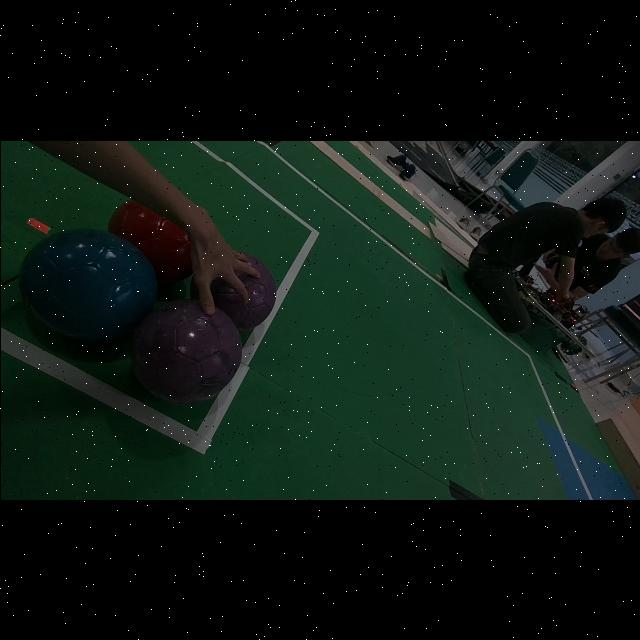B: (17, 230, 156, 339)
P: (130, 299, 241, 403), (210, 254, 276, 331)
R: (107, 199, 192, 284)
